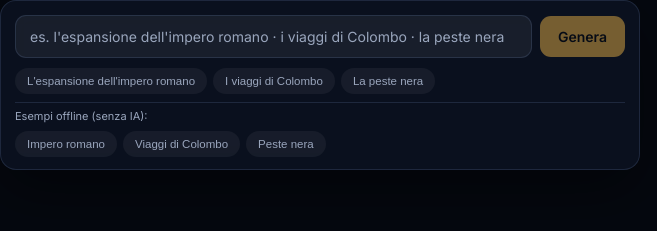
Scenario: Generator › bottone 'esempi offline' carica un esempio senza mai chiamare l'IA
The image size is (657, 231).
Click the button "Peste nera": [286, 144] box [246,131,326,157]
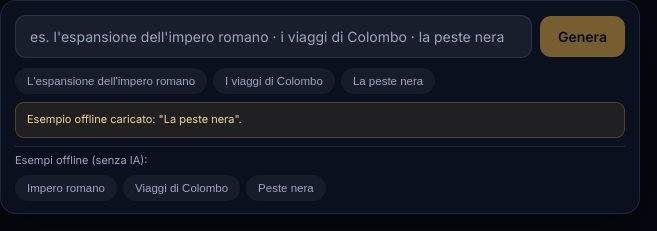
Check: the text "Esempio offline caricato: \"La peste nera\"." is shown, box [15,102,625,138]
